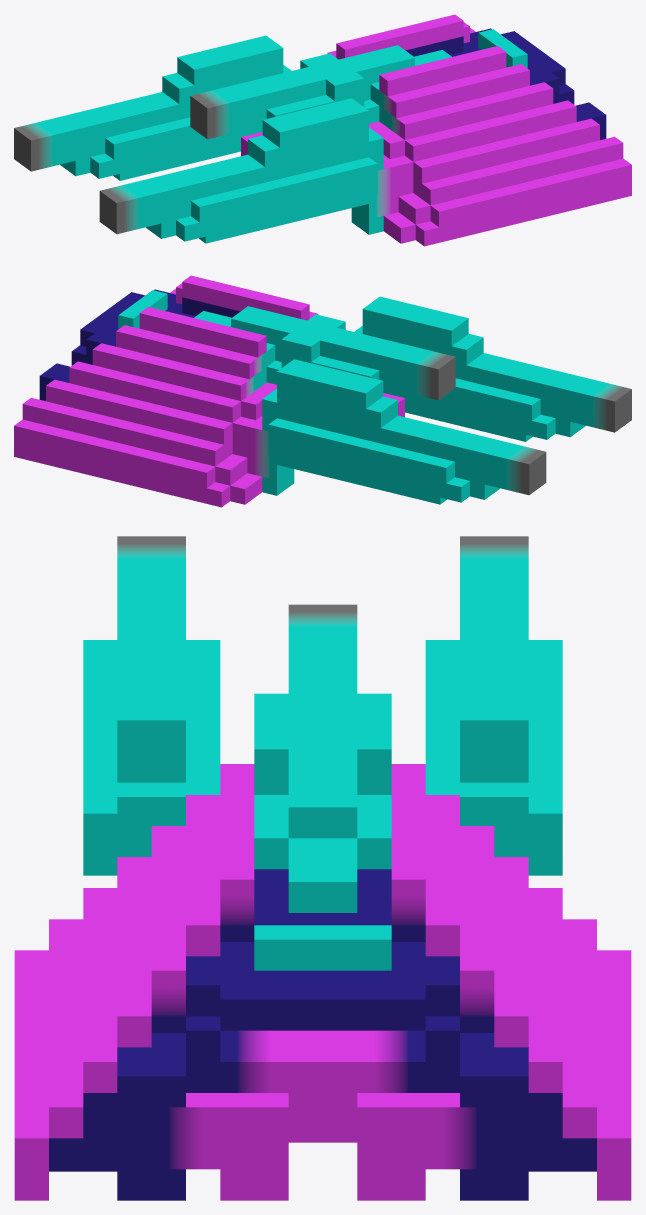
The model's file is Player_9.fbx.
3 renders of one model, top to bottom at view 1: azimuth 30°, elevation 25°; view 2: azimuth 150°, elevation 25°; view 3: azimuth 270°, elevation 25°, orthographic. The views are drawn at different scales.
Parts seen in each view (by area): view 1: Player_9; view 2: Player_9; view 3: Player_9.
Part boxes in pixels (x1,y1,x2,y2): Player_9: [14, 14, 631, 246]; Player_9: [14, 275, 631, 507]; Player_9: [14, 536, 631, 1200].
Size of the model in its own units: 33 by 8 by 18.
1 material, 1 textured.
